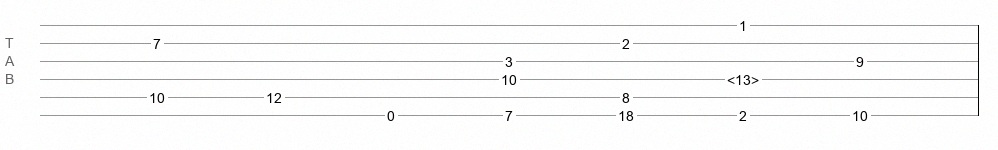0: (387, 108, 395, 118)
1: (739, 18, 747, 28)
10: (149, 90, 165, 100), (501, 72, 517, 82), (852, 108, 868, 118)
12: (266, 90, 282, 100)
18: (618, 108, 634, 118)
2: (622, 36, 630, 46), (739, 108, 747, 118)
3: (505, 54, 513, 64)
7: (153, 36, 161, 46), (505, 108, 513, 118)
8: (622, 90, 630, 100)
9: (856, 54, 864, 64)
harmonic: (727, 72, 759, 82)
